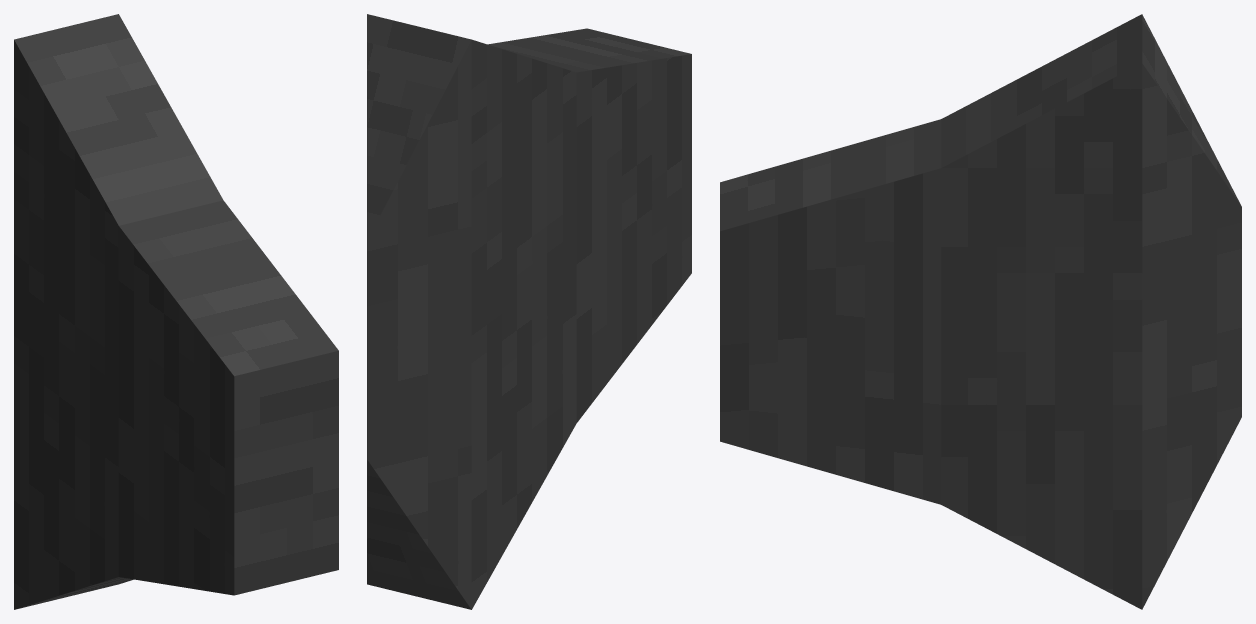
File: stoneHandAxe.obj
3 renders of one model, left to right at view 1: azimuth 30°, elevation 25°; view 2: azimuth 150°, elevation 25°; view 3: azimuth 270°, elevation 25°, orthographic. The views are drawn at different scales.
Visible parts, largest first — view 1: 2-southFace, 2-eastFace, 2-bottomFace, 2-westFace; view 2: 2-southFace, 2-topFace, 2-eastFace, 2-northFace; view 3: 2-northFace, 2-eastFace, 2-topFace.
Part boxes in pixels (x1,y1,x2,y2): 2-southFace: (14, 40, 234, 609); 2-eastFace: (14, 14, 338, 376); 2-bottomFace: (234, 350, 338, 595); 2-westFace: (18, 577, 133, 608); 2-southFace: (367, 39, 691, 609); 2-topFace: (367, 14, 471, 609); 2-eastFace: (488, 28, 690, 72); 2-northFace: (367, 96, 367, 538); 2-northFace: (720, 63, 1241, 609); 2-eastFace: (720, 14, 1142, 231); 2-topFace: (1142, 15, 1240, 204).
Bounding box in the file's own units: 0.125 × 0.6504 × 0.5625.
Materials: 1 (1 with a texture image).
